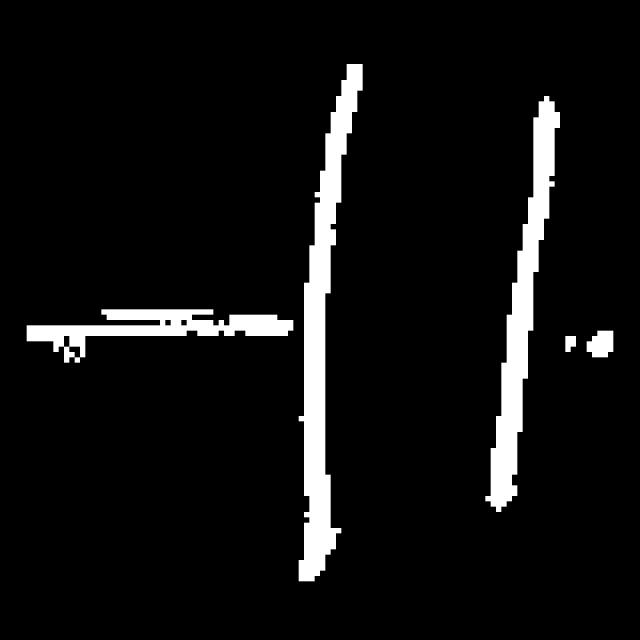capacitor: (284, 41, 564, 600)
